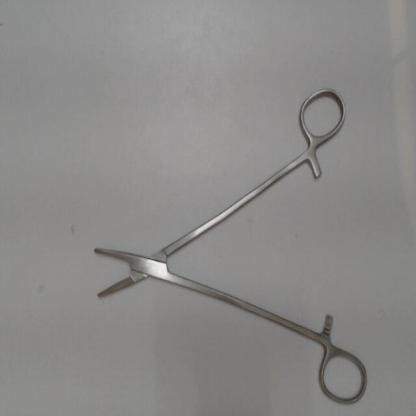8 Mayo Needle Holder: (87, 81, 371, 412)
